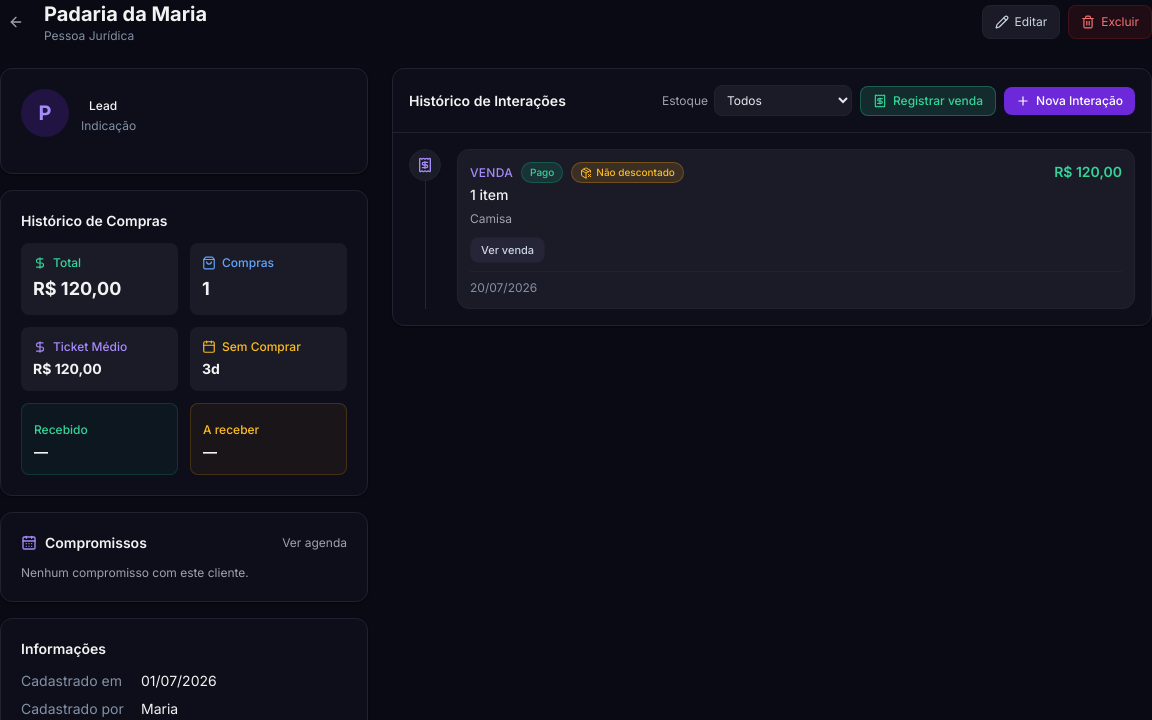
Test case: A venda entra no histórico do cliente › clicar em 'Ver venda' abre o detalhe dela
Click the button "Ver venda" at (508, 250), box [470,236,545,263]
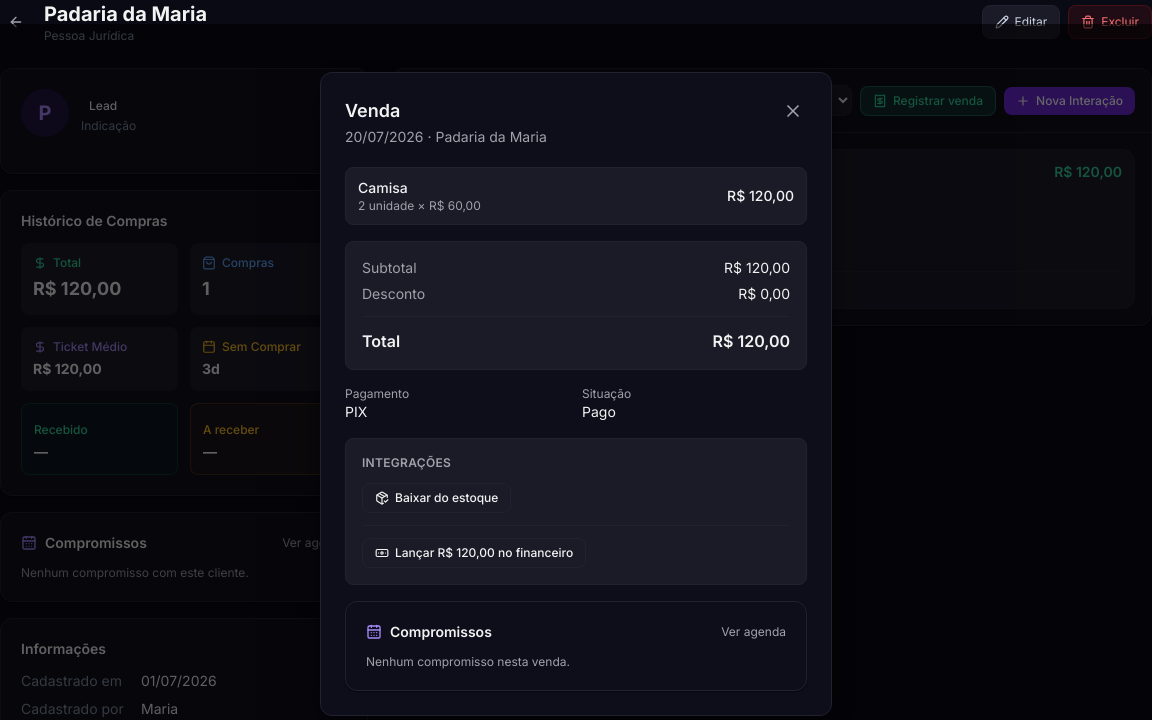
Expected: the text "Subtotal" is shown, [362,258,417,278]
